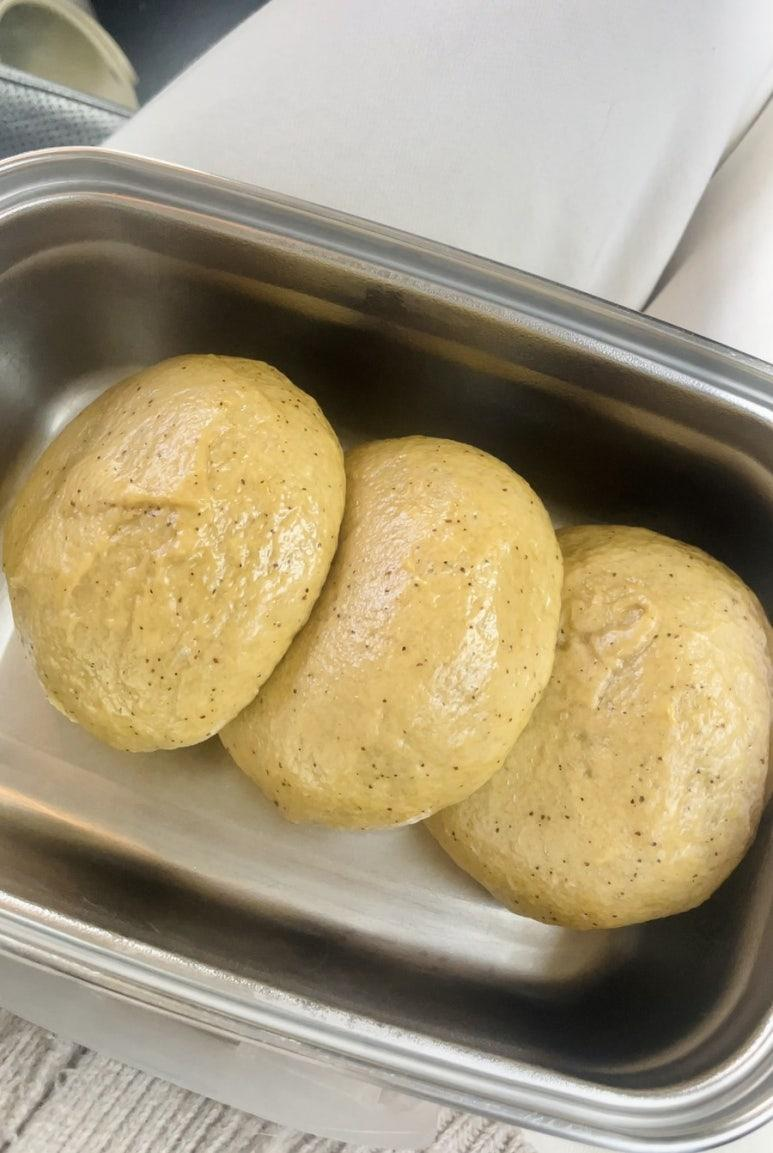Lunch Box: (0, 151, 772, 1152)
